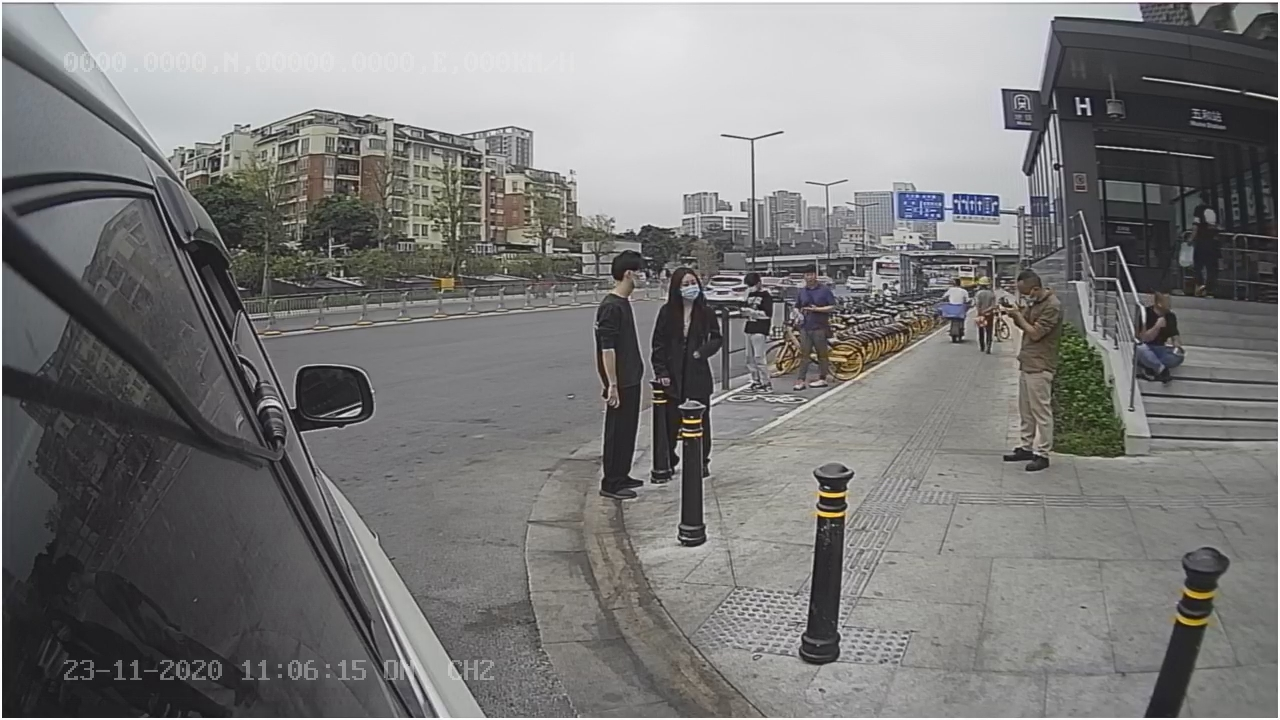person: (579, 247, 655, 501)
